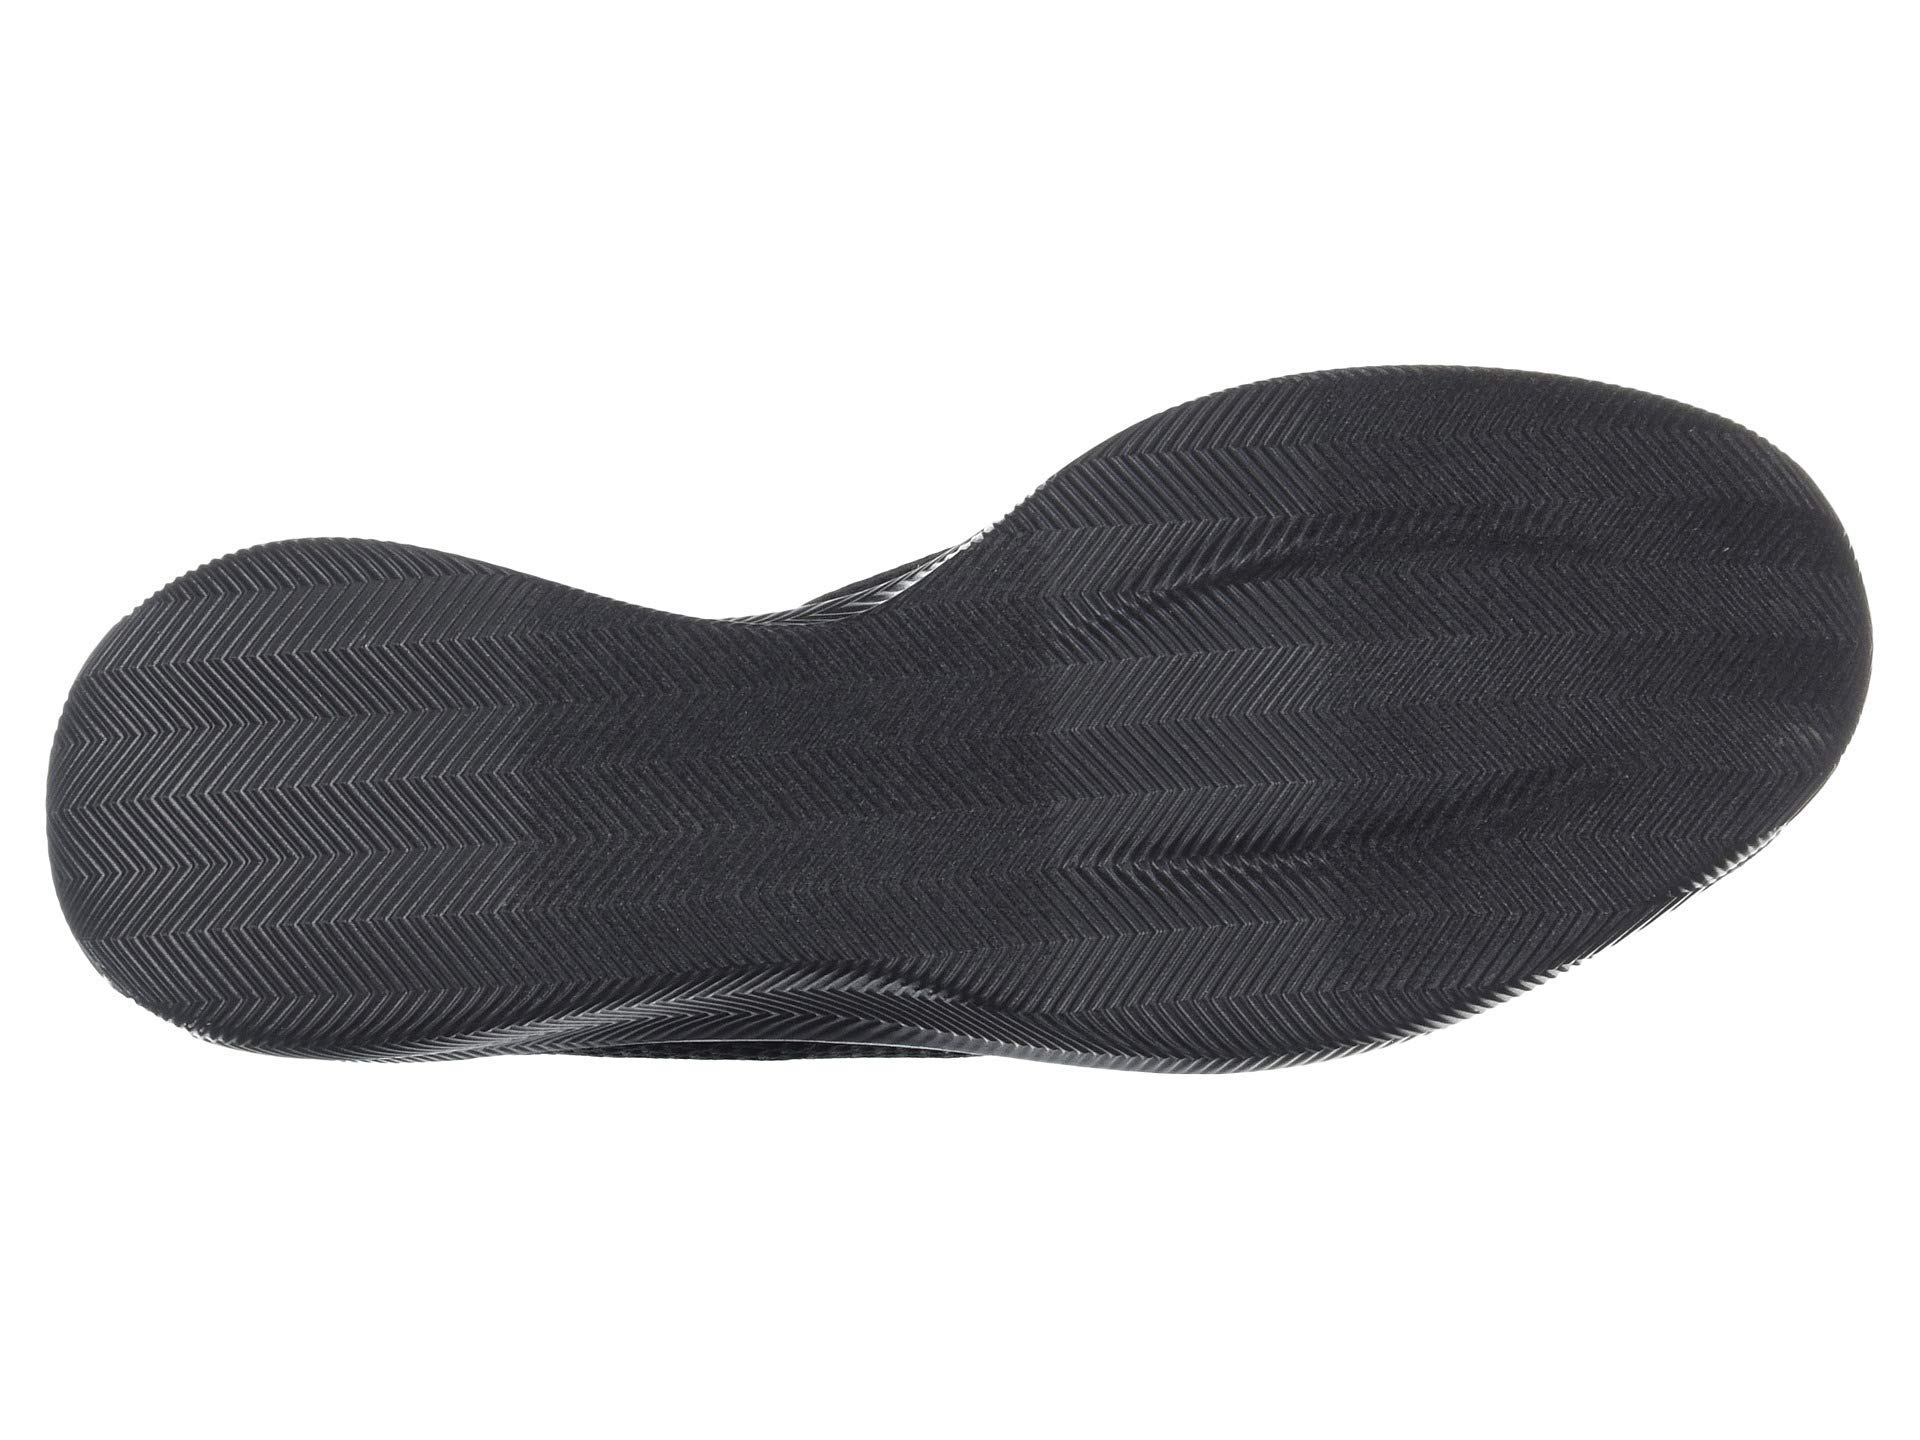chevron: (1167, 523, 1497, 953), (209, 622, 508, 885)
